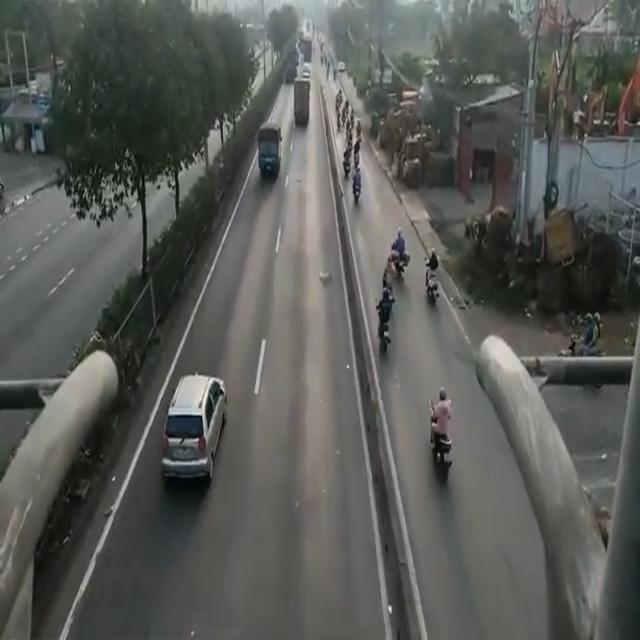car: (169, 366, 217, 486)
motorbike: (432, 390, 456, 486), (424, 248, 442, 312), (394, 222, 411, 287), (378, 291, 392, 360), (382, 253, 397, 294), (355, 167, 360, 208)
truck: (263, 121, 280, 182), (294, 74, 308, 130)
